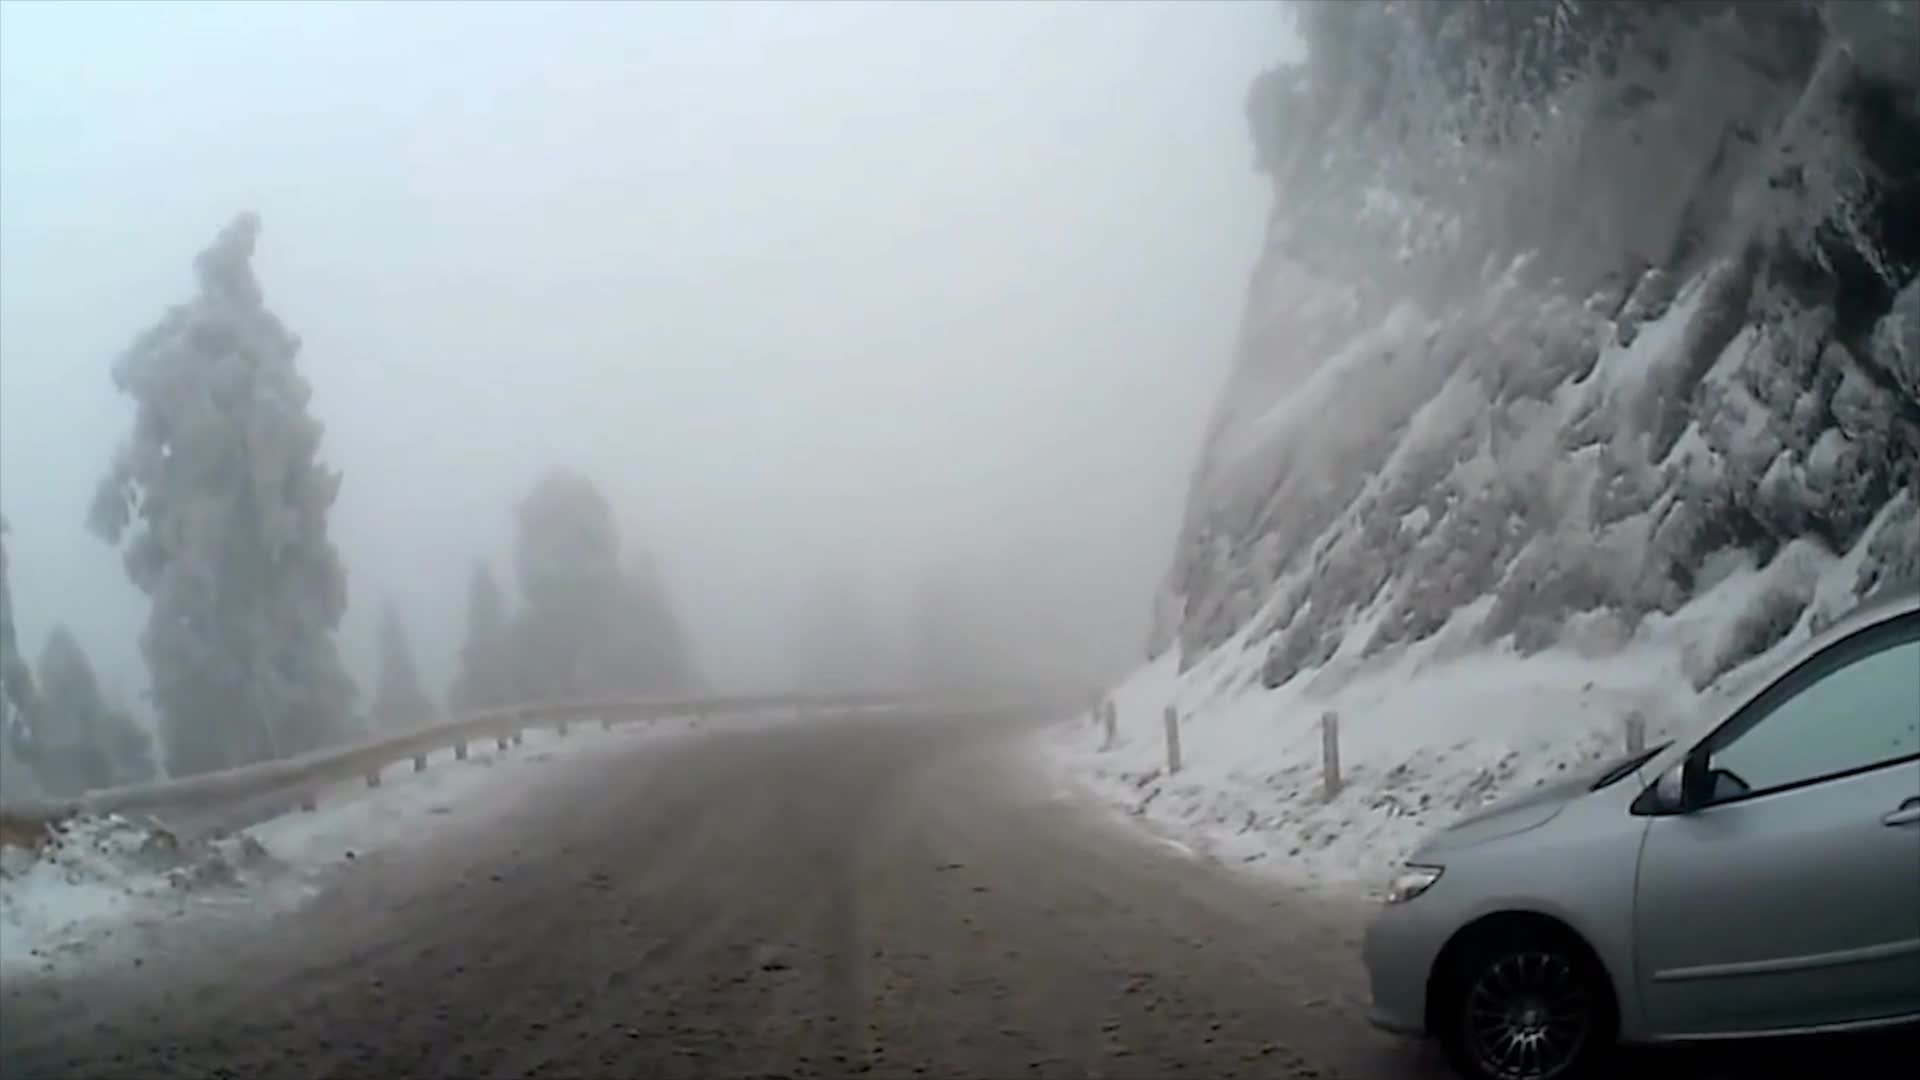vehicle: (1360, 579, 1920, 1080)
